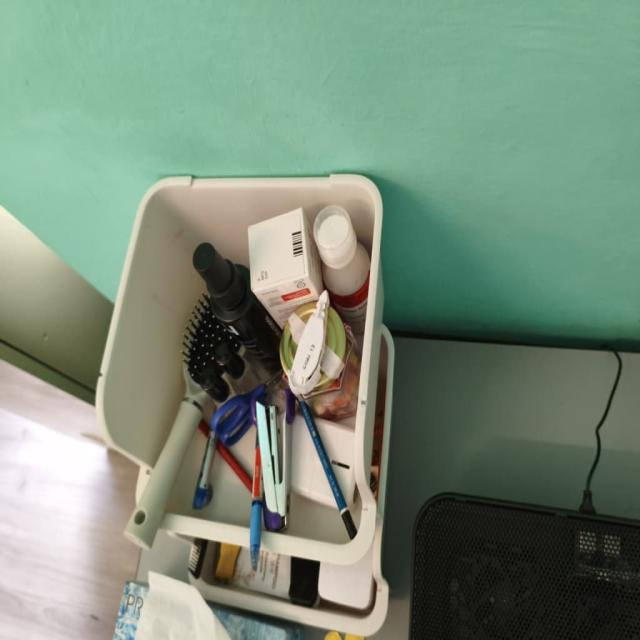pen: (192, 428, 218, 509), (250, 436, 262, 570)
pencil: (297, 398, 357, 538), (216, 441, 251, 492), (199, 420, 207, 436)
scissor: (211, 372, 282, 448)
stapler: (252, 389, 294, 530)
